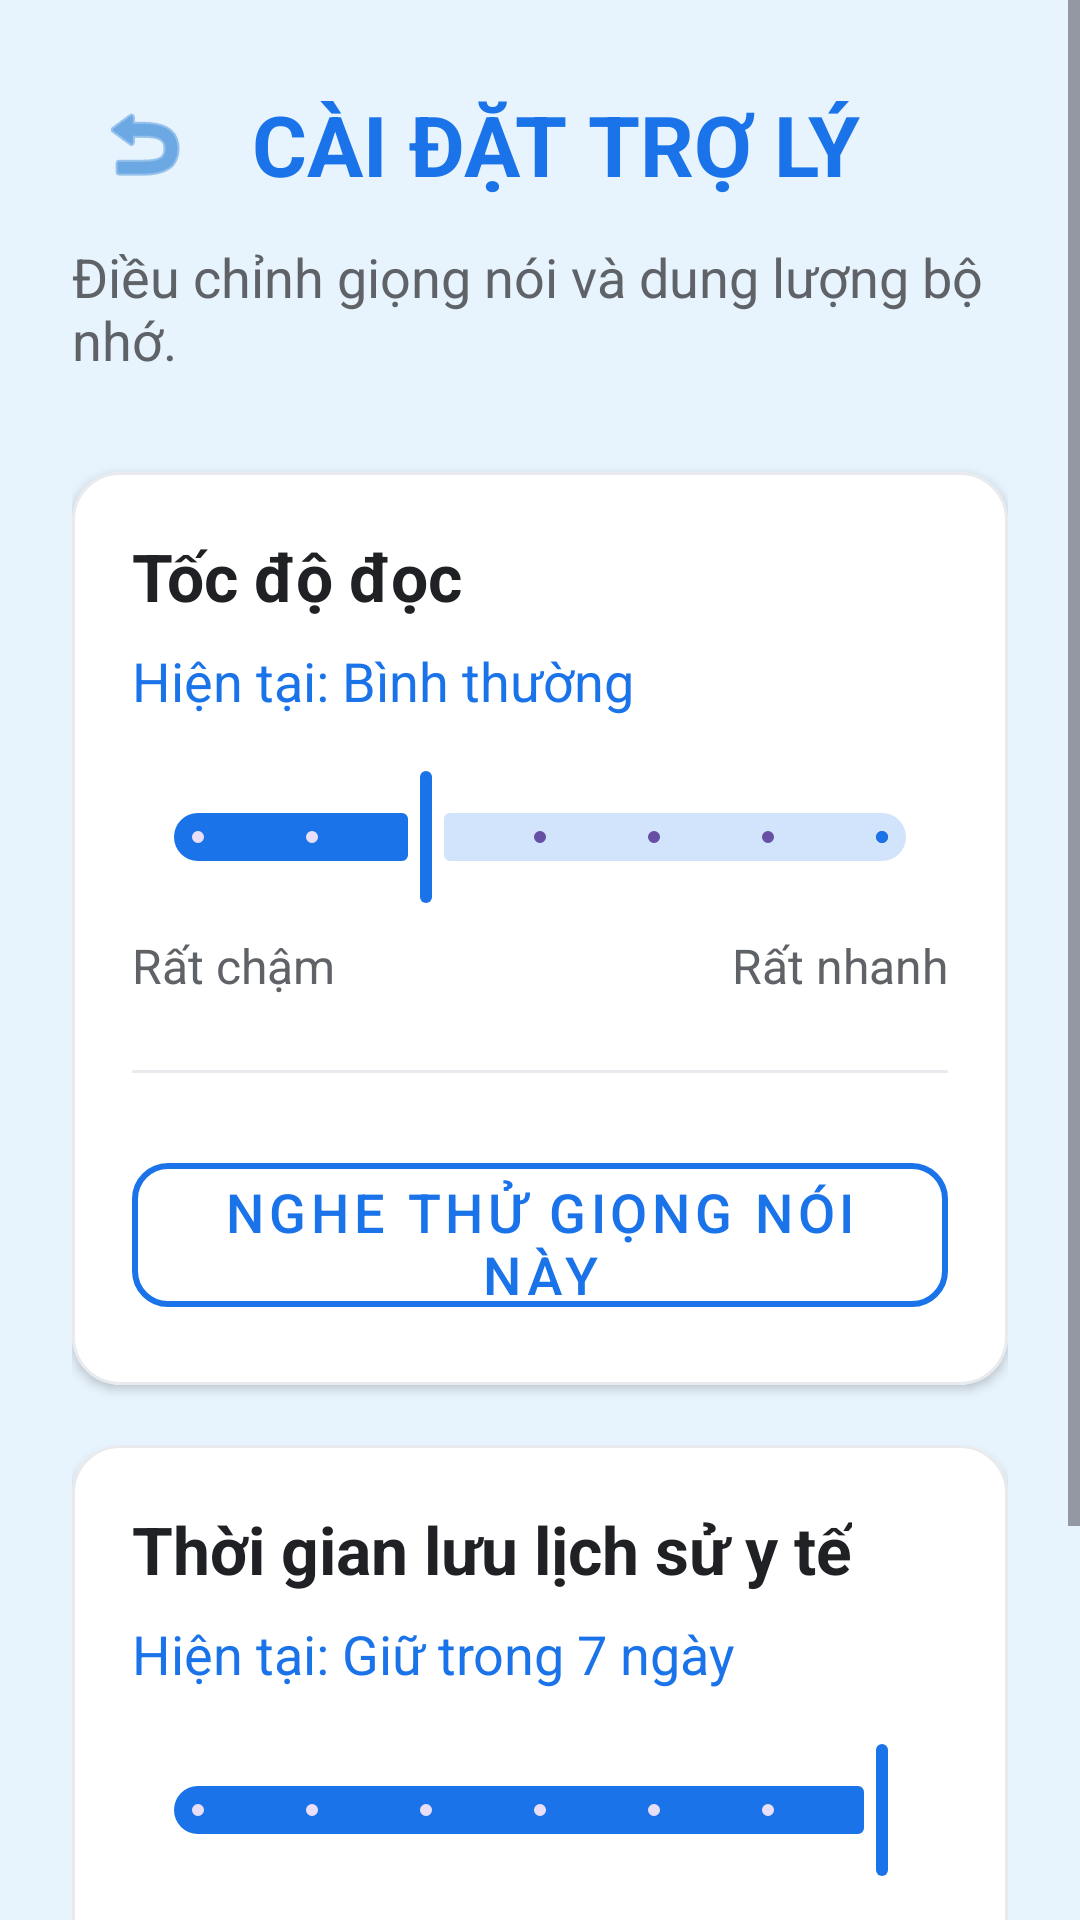

Icons on this 1080px×1920px Android screen, each with its box as box(x1, y1, x2, y2):
Quay lại: box(111, 113, 180, 176)
